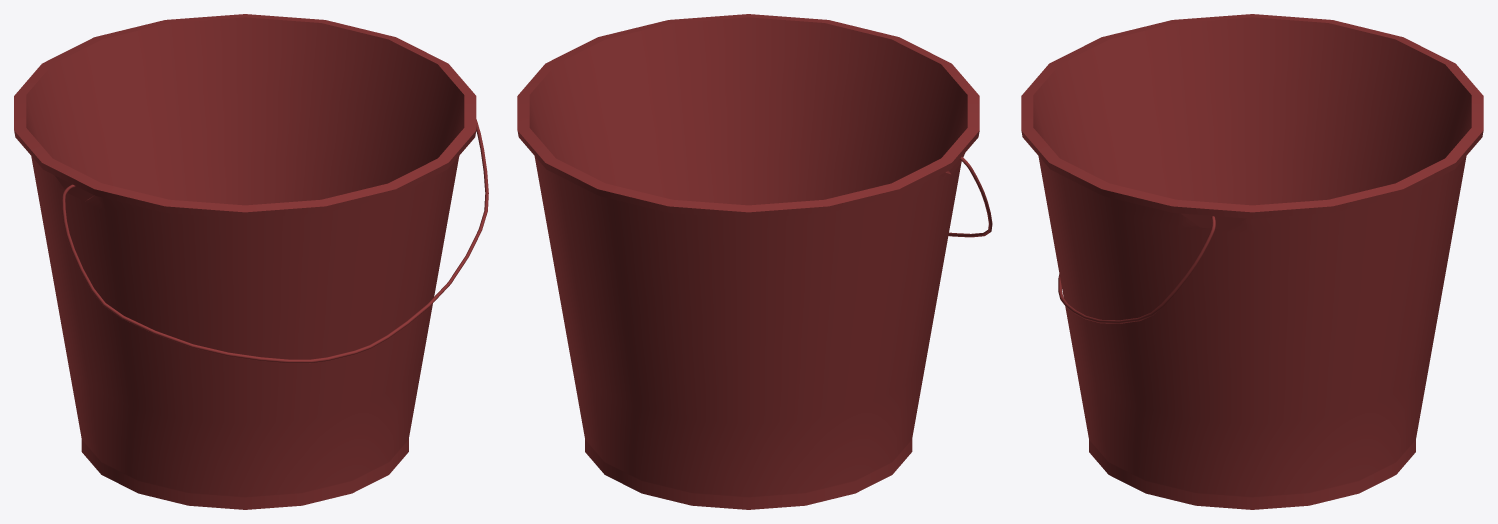
Rendered from bucket.FBX.
The picture shows the model from 3 angles, left to right: view 1: azimuth 30°, elevation 25°; view 2: azimuth 150°, elevation 25°; view 3: azimuth 270°, elevation 25°; orthographic projection.
Parts seen in each view (by area): view 1: Cylinder001; view 2: Cylinder001; view 3: Cylinder001.
Part boxes in pixels (left/top/right/bottom): Cylinder001: left=14, top=14, right=488, bottom=509; Cylinder001: left=517, top=14, right=992, bottom=509; Cylinder001: left=1021, top=14, right=1483, bottom=509.
Bounding box in the file's own units: 0.3166 × 0.2398 × 0.3059.
